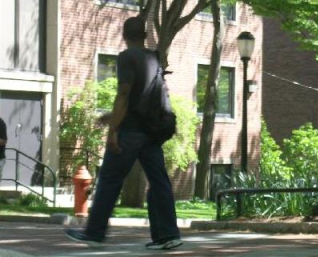person: (99, 15, 177, 244)
